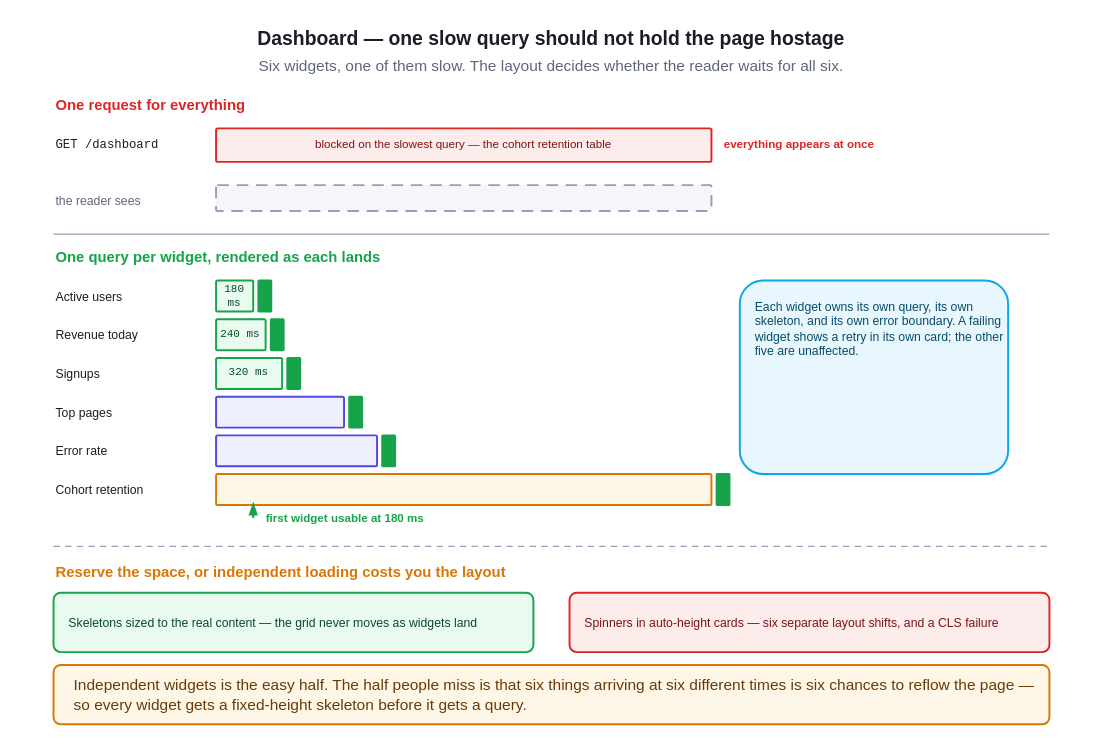
This 1102x747 diagram has some shape labels left out. Here are the shapes that lost their labels. From the top down, the box of each, then its label:
(215, 184, 712, 211): a page of spinners
(215, 395, 344, 428): 620 ms
(215, 434, 377, 467): 780 ms
(215, 473, 712, 505): 2400 ms
